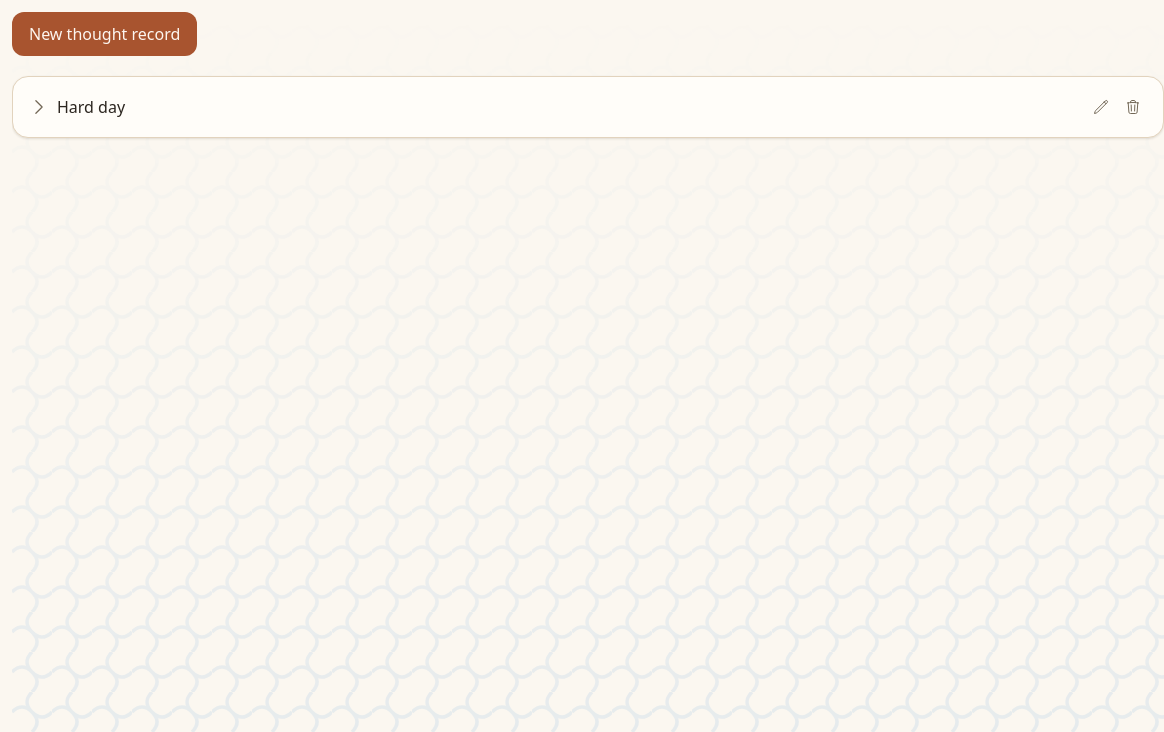
Test: ThoughtRecord tool › shows the word bucket in the collapsed item card, not a number
Note: Expand the item
Click the button named "show details" at [39, 107], box [25,93,53,121]
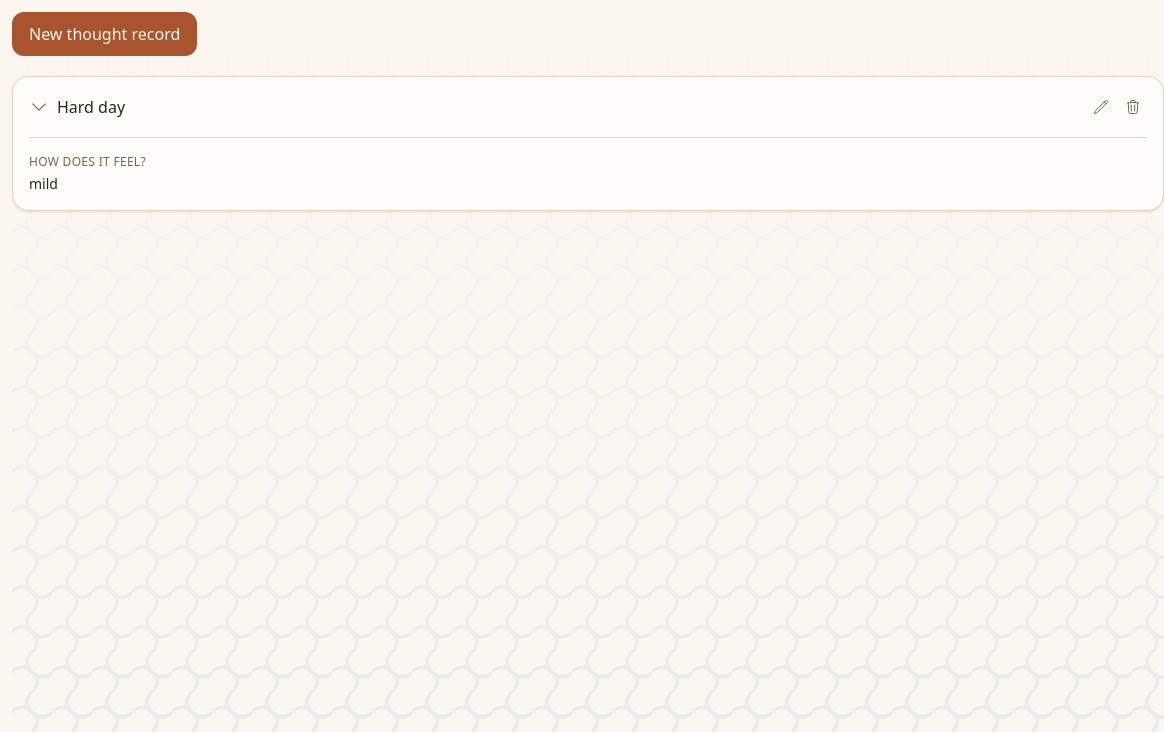
Expected: the text "mild" is shown, [29,174,58,193]
